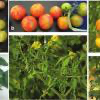Tomato leaf mosaic virus: (58, 80, 68, 95), (62, 57, 70, 74), (72, 56, 78, 75), (70, 77, 77, 90), (79, 78, 87, 89)
